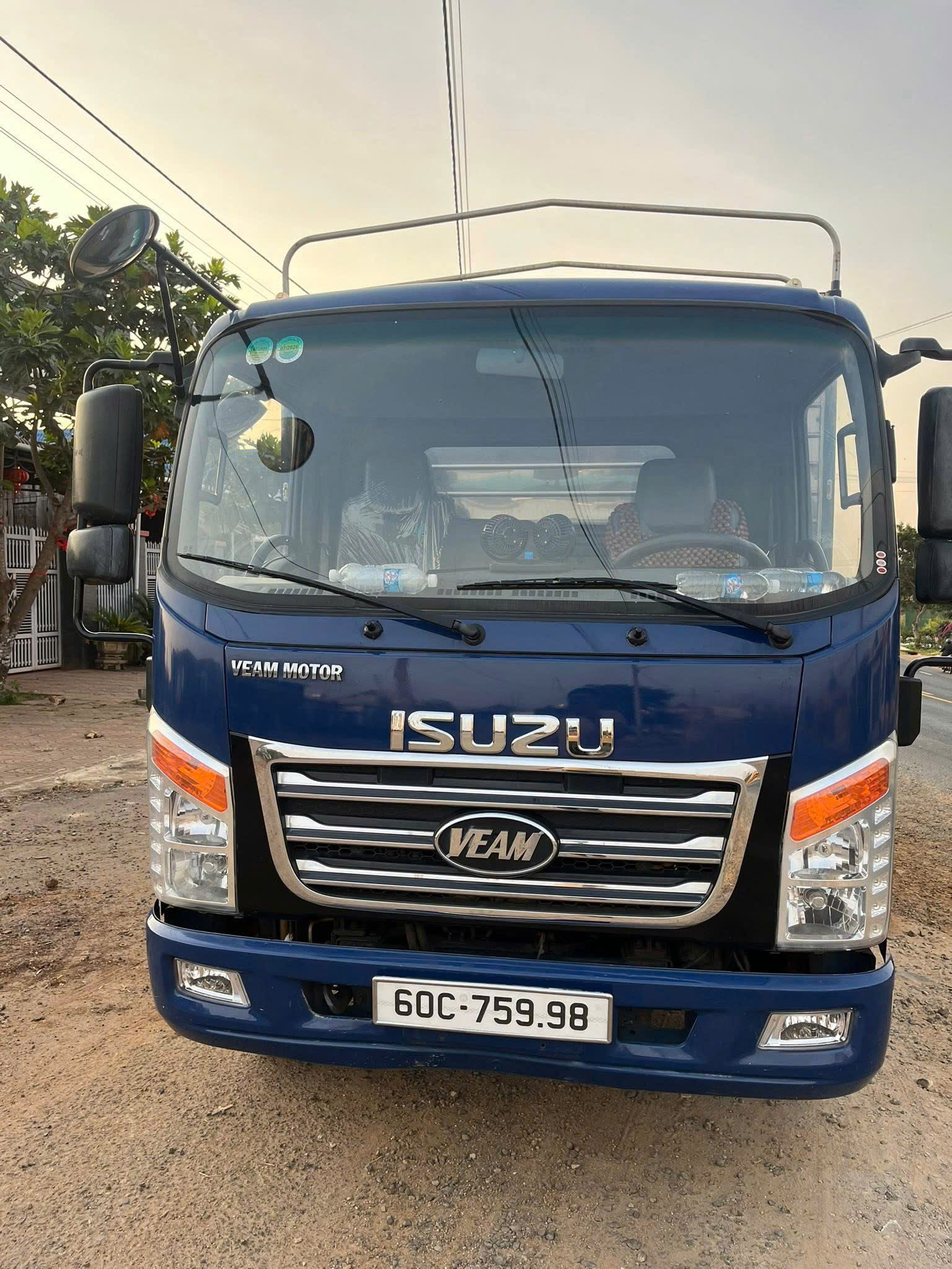Bien-so: (373, 975, 613, 1039)
